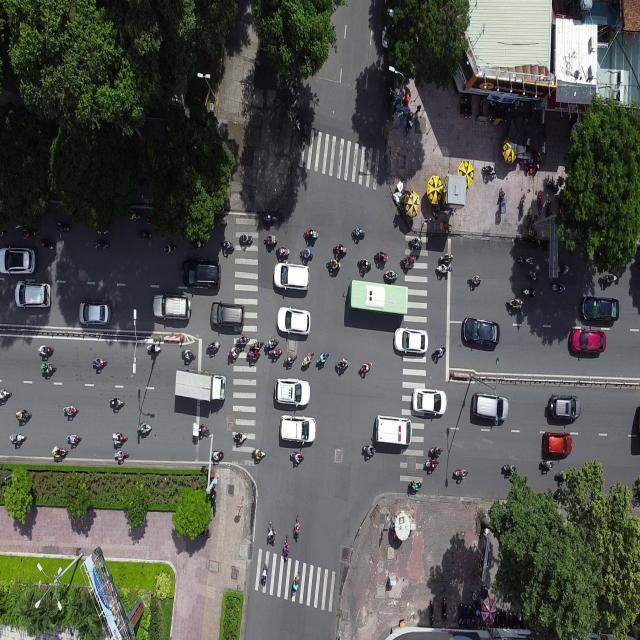vehicle: (348, 278, 409, 318), (174, 368, 227, 402), (182, 256, 222, 290), (13, 280, 52, 311), (273, 260, 310, 292), (375, 414, 412, 446), (152, 292, 192, 321), (412, 386, 447, 419), (280, 414, 317, 445), (462, 316, 500, 346), (472, 392, 510, 422), (580, 296, 620, 324), (274, 377, 310, 408), (1, 246, 36, 276), (276, 306, 311, 336), (570, 328, 606, 356), (78, 298, 111, 328), (548, 393, 582, 422), (210, 300, 245, 328), (394, 326, 428, 354), (542, 431, 572, 458), (381, 8, 397, 50), (290, 571, 302, 598), (192, 422, 210, 438), (51, 444, 69, 459), (334, 356, 350, 372), (316, 350, 330, 368), (499, 184, 507, 214), (111, 432, 128, 446), (36, 344, 54, 357), (262, 336, 280, 349), (598, 272, 617, 284), (233, 429, 248, 444), (298, 248, 314, 262), (180, 348, 196, 362), (508, 296, 524, 310), (295, 104, 303, 132), (516, 254, 534, 266), (267, 520, 276, 544), (282, 534, 290, 561), (40, 237, 54, 252), (220, 237, 234, 252), (303, 227, 318, 241), (432, 345, 446, 360), (400, 254, 415, 268), (20, 228, 36, 241), (383, 268, 399, 281), (408, 237, 424, 250), (436, 263, 452, 276), (405, 111, 413, 137), (482, 164, 498, 177), (114, 449, 130, 462), (260, 561, 268, 587), (108, 396, 125, 408), (290, 450, 304, 464), (92, 356, 107, 369), (127, 209, 142, 222), (162, 242, 177, 255), (263, 233, 278, 246), (9, 432, 25, 444), (66, 433, 82, 445), (62, 404, 78, 416), (135, 230, 151, 242), (302, 352, 314, 368), (526, 270, 542, 282), (136, 422, 152, 434), (40, 362, 54, 375), (276, 245, 290, 258), (374, 250, 388, 263), (206, 340, 220, 353), (246, 349, 260, 362), (301, 124, 308, 150), (362, 444, 376, 457), (409, 478, 422, 492), (555, 469, 569, 482), (198, 527, 212, 540), (238, 233, 253, 245), (351, 226, 366, 238), (227, 346, 242, 358), (429, 444, 444, 456), (251, 448, 266, 460), (550, 282, 566, 293), (452, 468, 468, 479), (440, 252, 453, 265), (55, 222, 69, 234), (214, 214, 228, 226), (262, 212, 276, 224), (268, 346, 282, 358), (284, 353, 298, 365), (360, 360, 372, 374), (468, 274, 482, 286), (540, 459, 554, 471), (333, 243, 348, 254), (522, 287, 537, 298), (358, 258, 371, 270), (520, 192, 526, 218), (537, 190, 543, 216), (546, 197, 552, 223), (502, 464, 515, 476), (426, 458, 438, 471), (212, 449, 224, 462), (428, 600, 434, 626), (0, 388, 11, 402), (294, 515, 300, 540), (328, 258, 340, 270), (146, 344, 162, 353), (457, 602, 463, 626), (94, 240, 108, 250), (236, 334, 250, 344), (248, 340, 262, 350), (442, 597, 448, 620), (478, 96, 484, 118), (557, 264, 569, 275), (467, 94, 472, 120), (192, 240, 204, 250), (552, 486, 562, 498), (488, 99, 493, 122), (96, 228, 110, 236), (474, 604, 482, 618), (145, 216, 156, 226), (467, 603, 472, 625), (516, 610, 522, 628), (482, 583, 489, 598), (502, 608, 507, 628), (464, 96, 468, 120), (414, 104, 422, 116), (507, 610, 512, 628), (463, 604, 467, 626), (470, 590, 477, 602), (498, 608, 502, 628), (512, 610, 516, 628), (287, 110, 293, 122), (461, 96, 464, 119), (493, 99, 496, 122), (501, 102, 504, 124), (472, 603, 474, 624), (0, 230, 4, 238)
